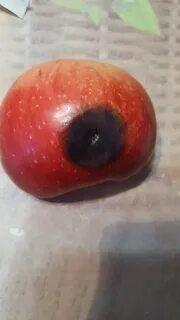Apple: (0, 60, 155, 200)
